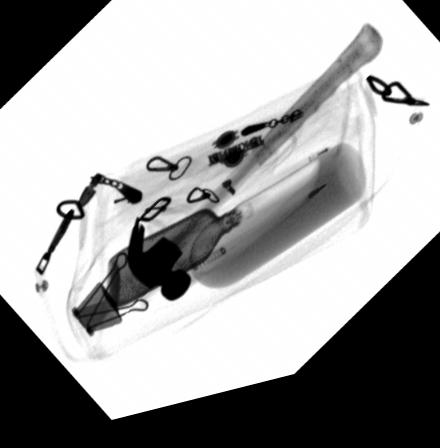Hammer: (126, 39, 382, 309)
